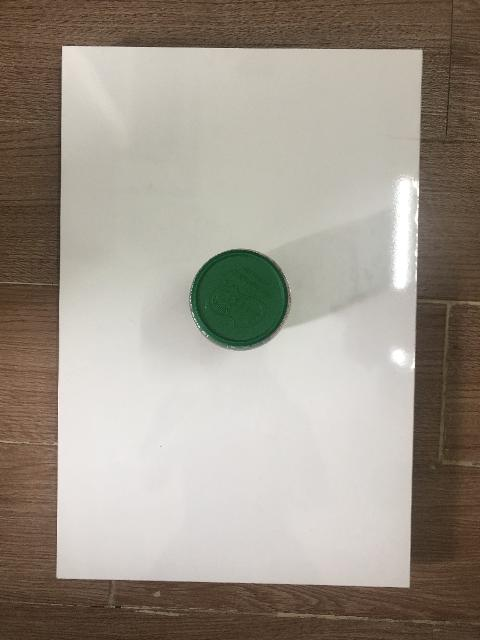milo: (189, 250, 291, 352)
